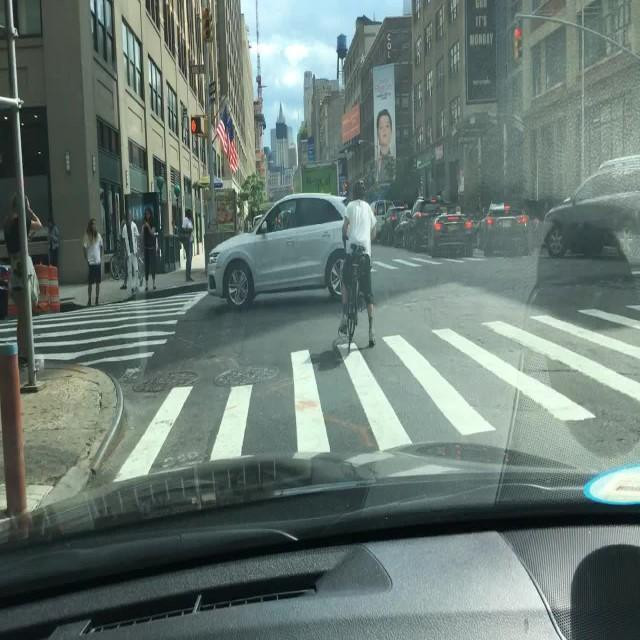normal: (206, 196, 375, 311), (471, 204, 531, 258), (431, 214, 476, 260)
